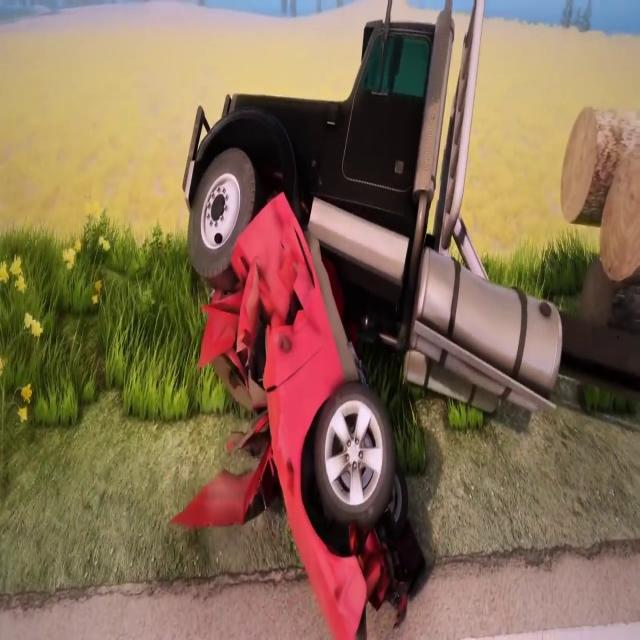accident: (173, 3, 596, 640)
